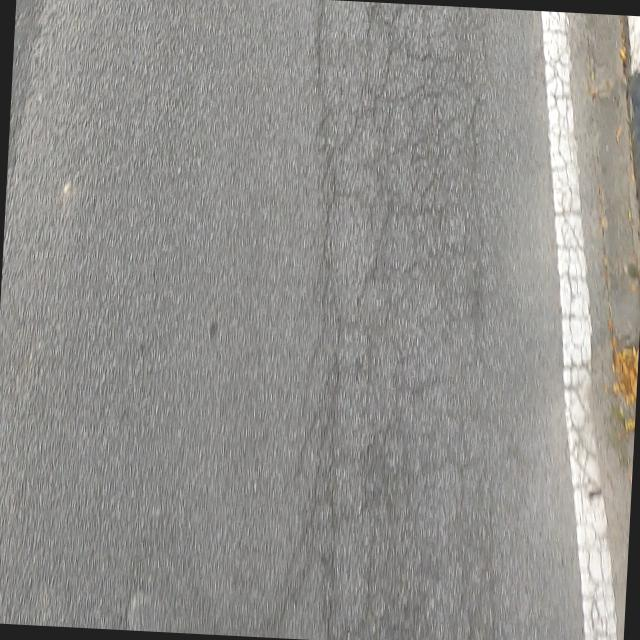Retak-Buaya: (312, 0, 495, 640), (541, 11, 616, 638)
